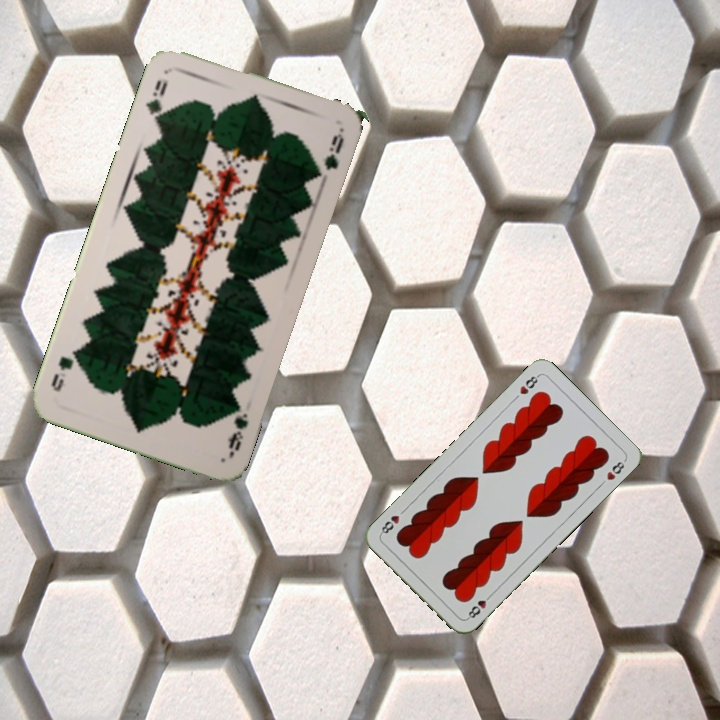G9: (141, 76, 170, 126), (223, 409, 251, 453)
H8: (463, 590, 495, 622), (516, 371, 542, 397)
